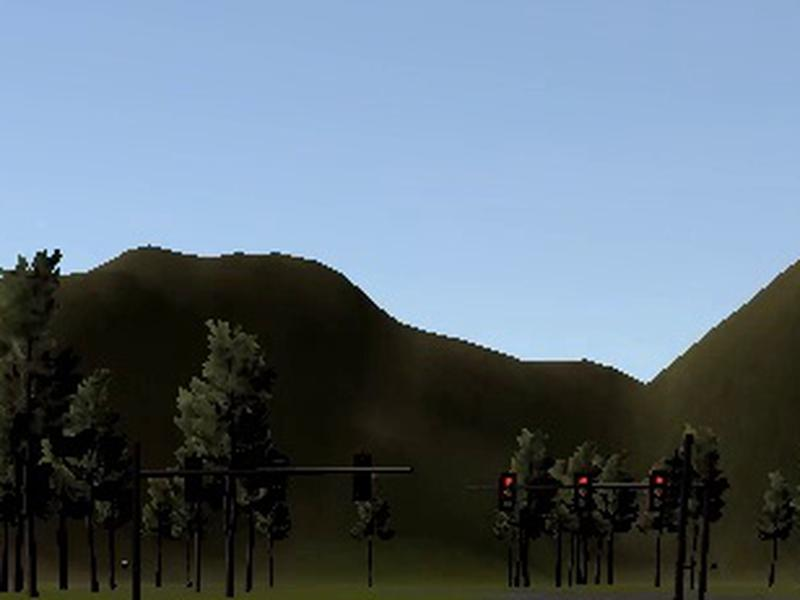Red: (575, 470, 593, 513), (649, 470, 667, 511), (499, 472, 515, 512)
